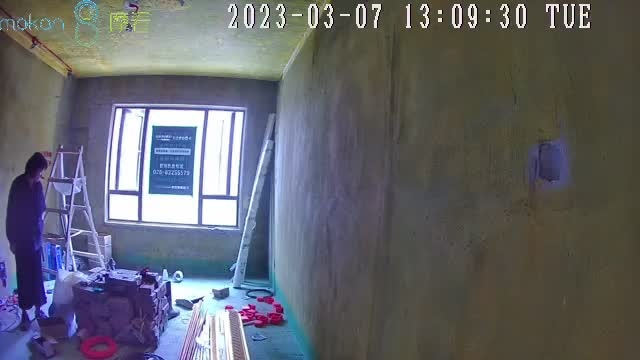people: (5, 154, 48, 326)
window: (107, 104, 242, 231)
